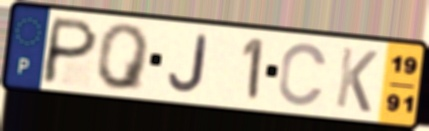1: (240, 37, 264, 105)
C: (275, 41, 330, 109)
J: (166, 32, 210, 95)
K: (332, 45, 380, 116)
P: (38, 15, 102, 87)
Q: (95, 22, 154, 94)
